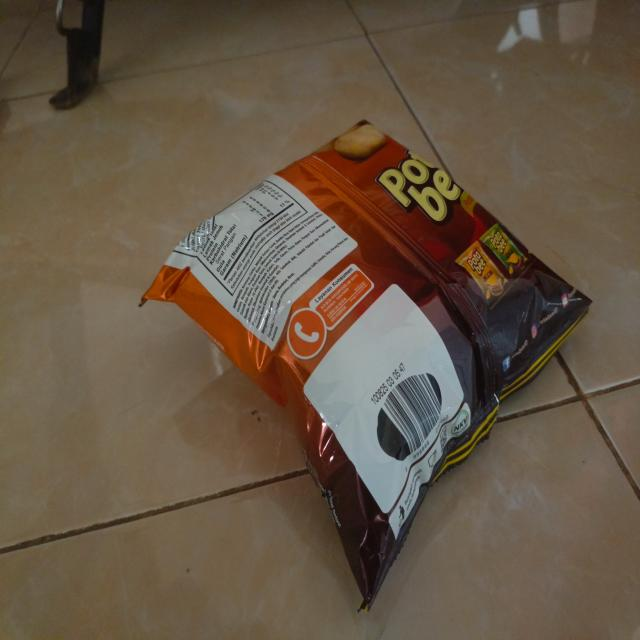potabee-ayam-bakar: (139, 113, 597, 618)
